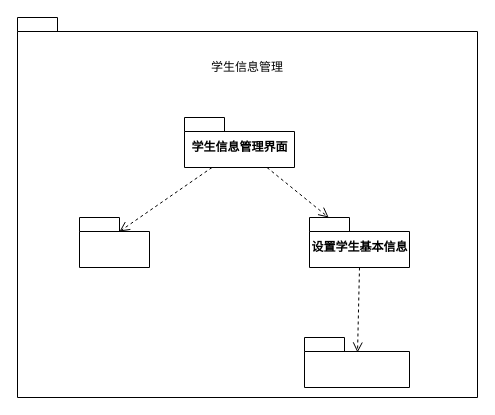
Some shapes in this 495 by 415 pixel diagram are drawn without their labels. The centre of each missing label's shape, as x and y in pixels:
"显示学生基本信息" belongs at (x=357, y=362).
"设置学生权限" belongs at (x=114, y=242).
